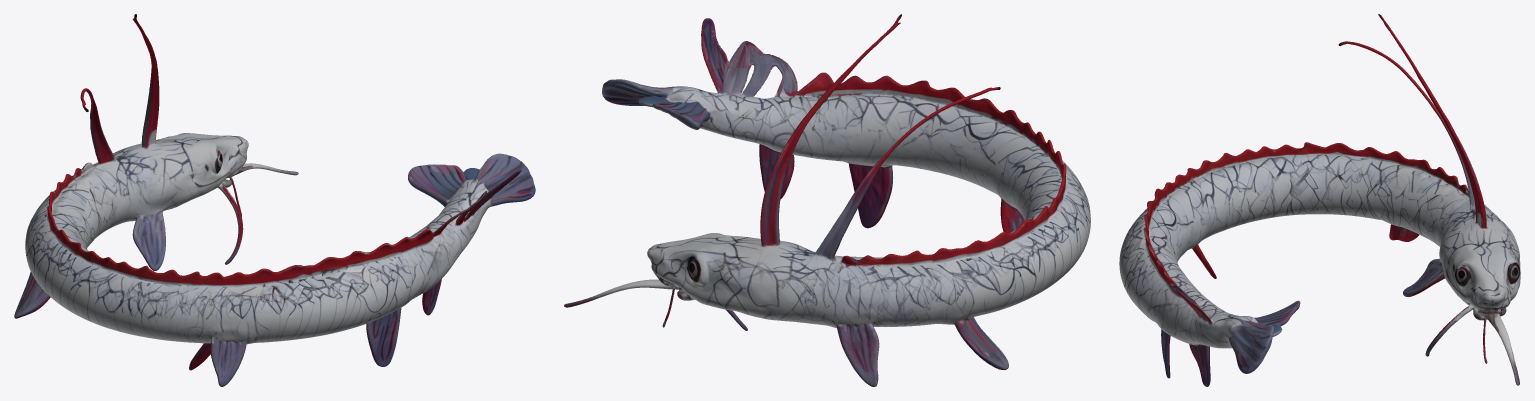
The model's file is oarZ_4.glb.
The picture shows the model from 3 angles, left to right: view 1: azimuth 30°, elevation 25°; view 2: azimuth 150°, elevation 25°; view 3: azimuth 270°, elevation 25°; orthographic projection. The views are drawn at different scales.
Parts seen in each view (by area): view 1: tripo_node_407cf97d-f114-40c3-924f-95c44c959883; view 2: tripo_node_407cf97d-f114-40c3-924f-95c44c959883; view 3: tripo_node_407cf97d-f114-40c3-924f-95c44c959883.
Boxes of the visible parts, box(x1,y1,x2,y2) form: tripo_node_407cf97d-f114-40c3-924f-95c44c959883: box(14, 14, 535, 386); tripo_node_407cf97d-f114-40c3-924f-95c44c959883: box(564, 14, 1090, 386); tripo_node_407cf97d-f114-40c3-924f-95c44c959883: box(1119, 14, 1520, 386).
Bounding box in the file's own units: 1 × 0.6542 × 0.7983.
Materials: 1 (1 with a texture image).
